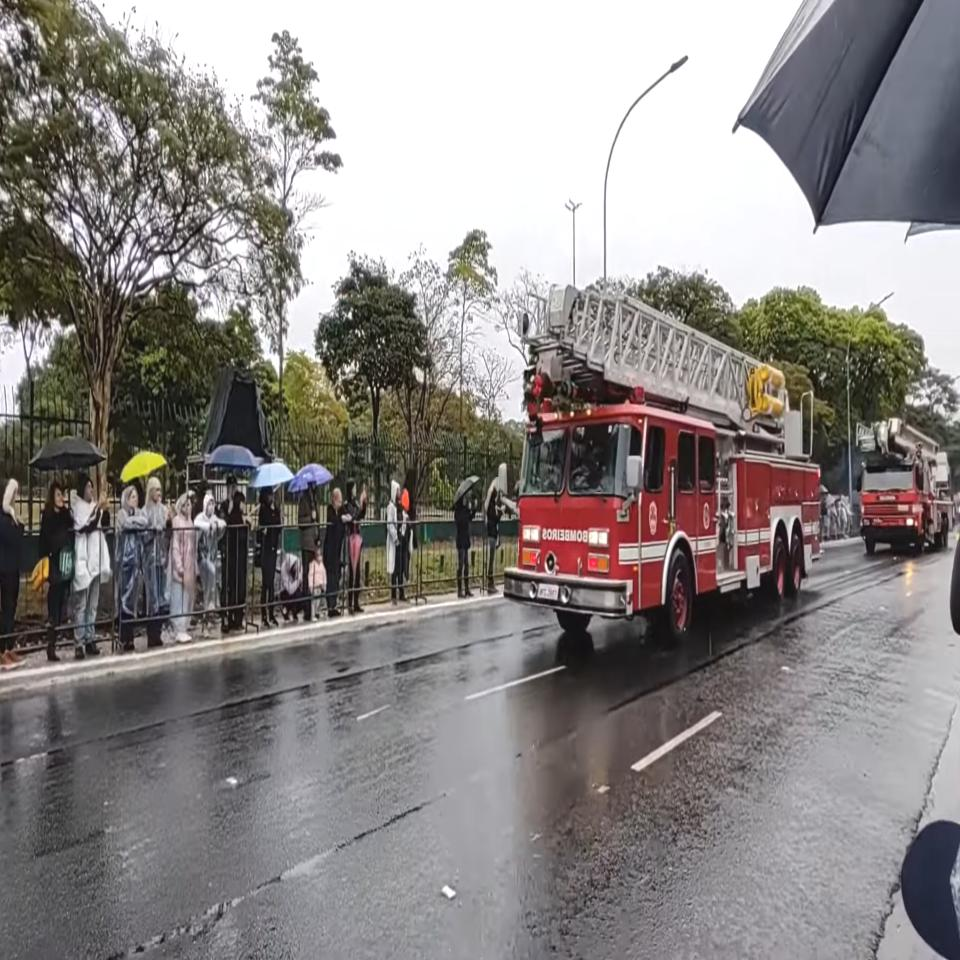bombeiro: (499, 283, 825, 651), (854, 419, 956, 555)
